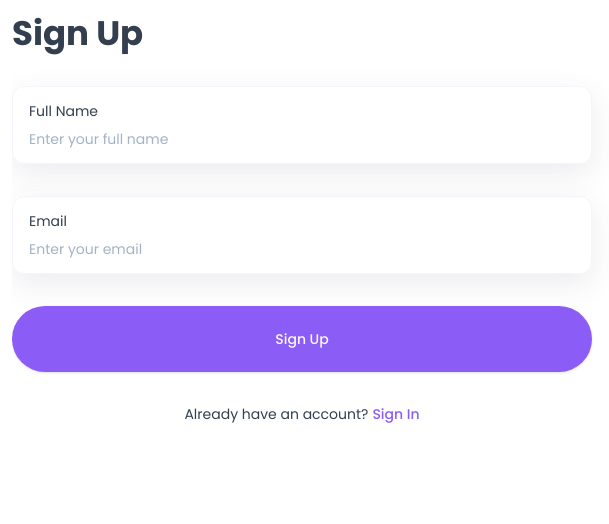
Test case: AuthForm Component › displays error message on authentication failure
Type "John Doe" into the field with placeholder "Enter your full name". click: x=302, y=139
box: [29,121,575,157]
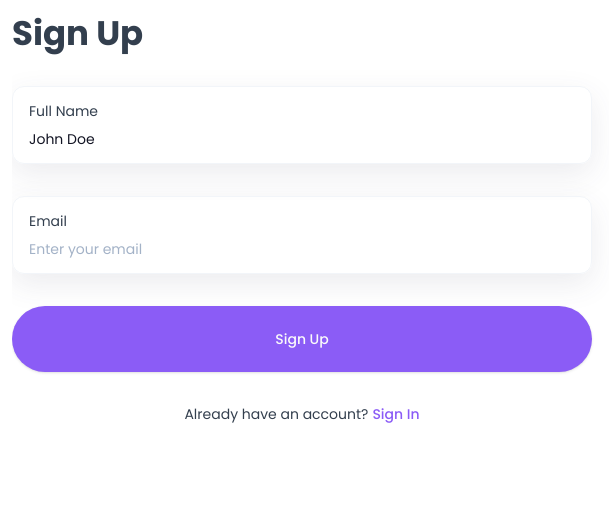
Type "johndoe@example.com" into the field with placeholder "Enter your email". click: x=302, y=249
box: [29,231,575,267]
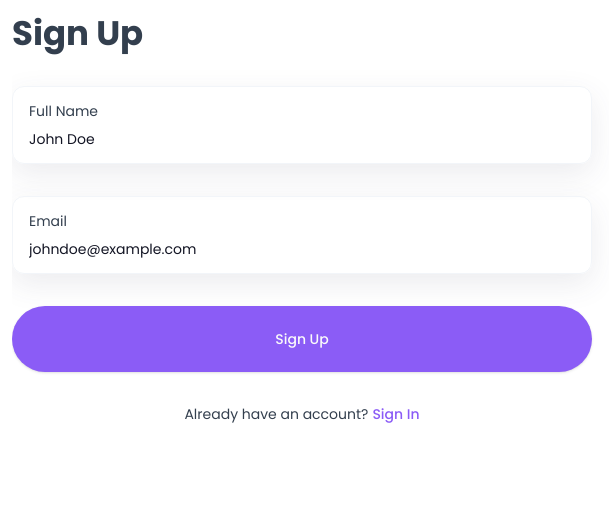
Click the button "Sign Up". click: x=302, y=339
box: [12,306,592,372]
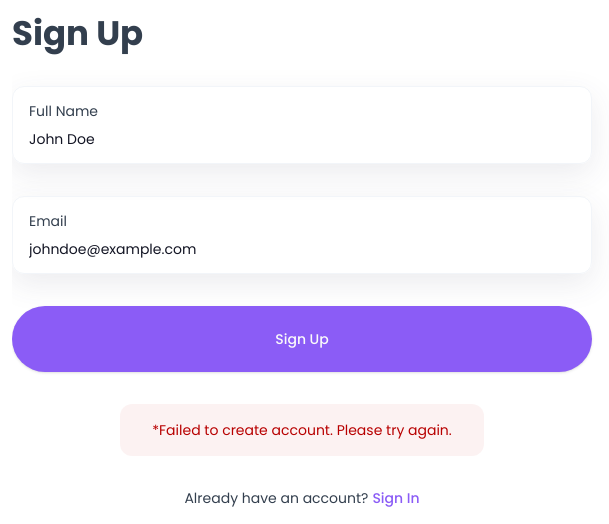
Result: the text "*Failed to create account. Please try again." is shown at [120,404,484,456]
